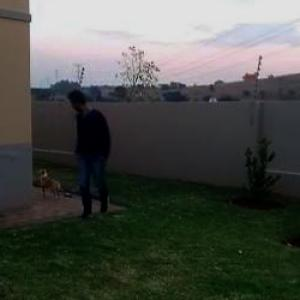follow: (70, 82, 112, 224)
